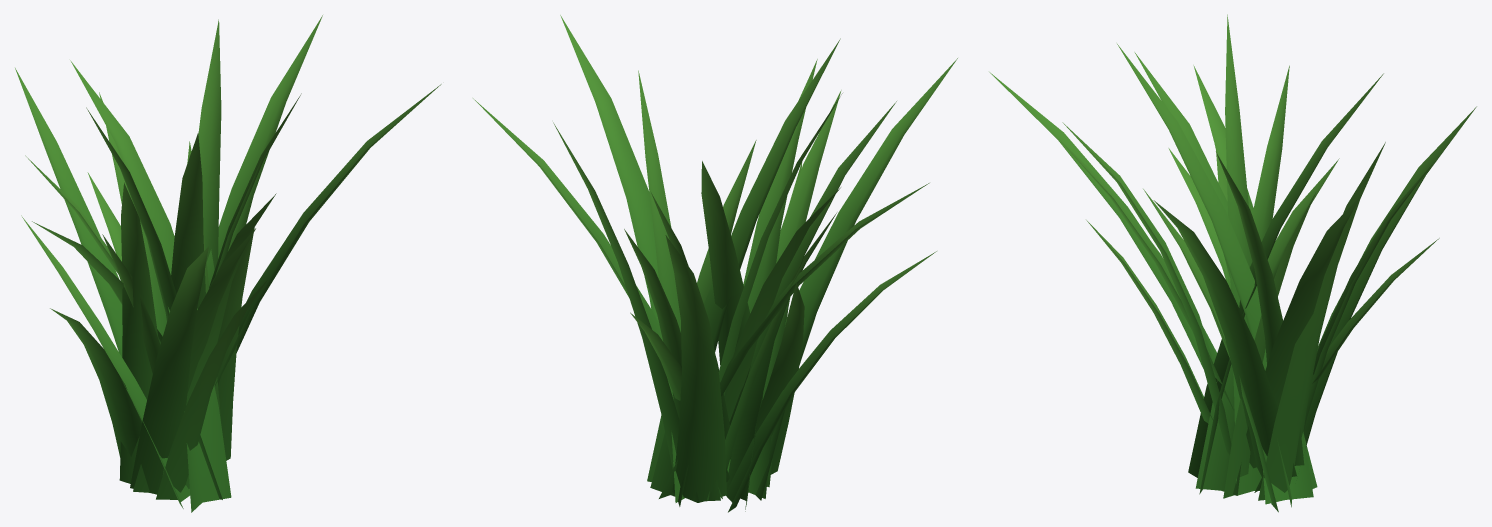
Rendered from decor_touffe_ete_1.glb.
3 renders of one model, left to right at view 1: azimuth 30°, elevation 25°; view 2: azimuth 150°, elevation 25°; view 3: azimuth 270°, elevation 25°, orthographic.
Parts seen in each view (by area): view 1: herbe; view 2: herbe; view 3: herbe.
Part boxes in pixels (x1=…): herbe: x1=15, y1=15, x2=441, y2=512; herbe: x1=473, y1=15, x2=957, y2=512; herbe: x1=989, y1=14, x2=1476, y2=512.
Size of the model in its own units: 0.1686 by 0.1704 by 0.1815.
